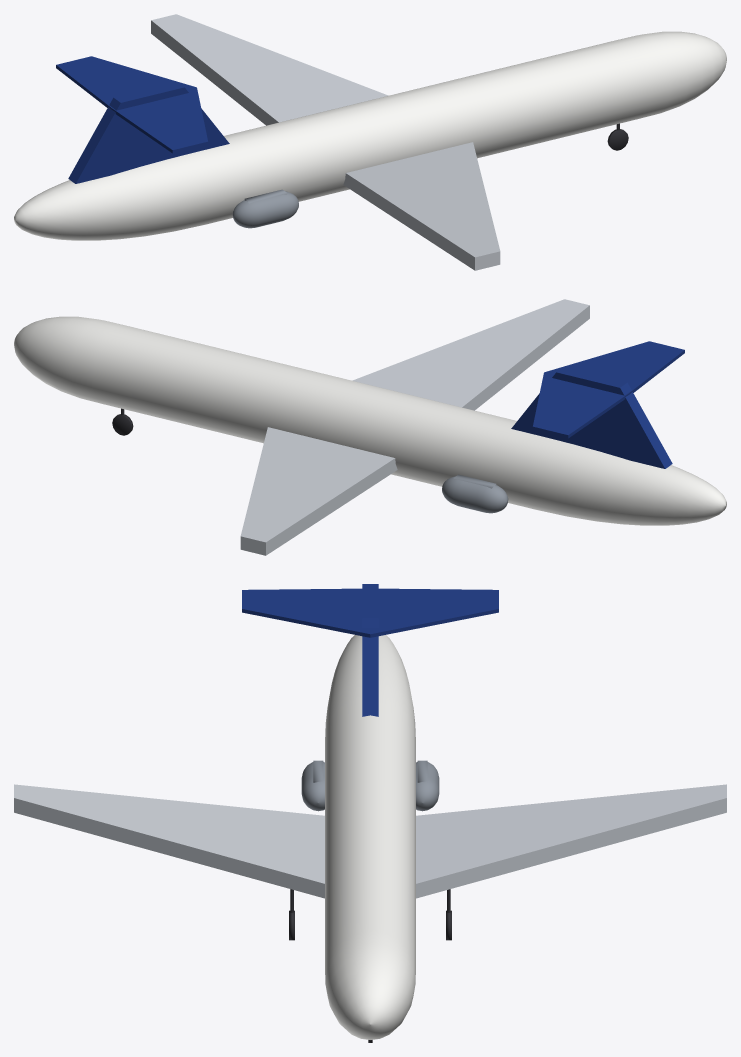
Rendered from crj2.glb.
The picture shows the model from 3 angles, top to bottom: view 1: azimuth 30°, elevation 25°; view 2: azimuth 150°, elevation 25°; view 3: azimuth 270°, elevation 25°; orthographic projection. The views are drawn at different scales.
Visible parts, largest first — view 1: fuselage, wings, tail, engines; view 2: fuselage, wings, tail, engines; view 3: wings, fuselage, tail, engines.
Part boxes in pixels (bbox=[...]): fuselage: bbox=[14, 31, 726, 240]; wings: bbox=[151, 14, 500, 270]; tail: bbox=[56, 56, 229, 183]; engines: bbox=[232, 189, 298, 228]; fuselage: bbox=[14, 316, 726, 525]; wings: bbox=[240, 299, 589, 555]; tail: bbox=[511, 341, 684, 468]; engines: bbox=[442, 474, 508, 513]; wings: bbox=[14, 784, 726, 898]; fuselage: bbox=[325, 635, 415, 1039]; tail: bbox=[242, 584, 498, 716]; engines: bbox=[301, 760, 439, 811].
Bounding box in the file's own units: 26.8 × 6.19 × 21.2.
